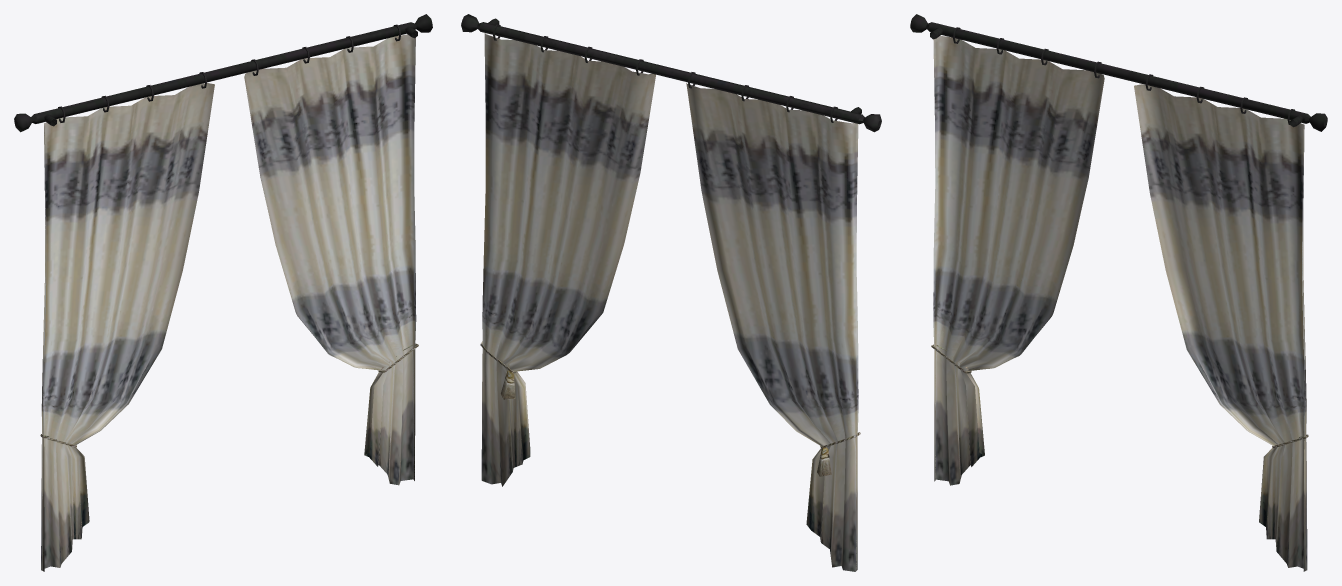
The model's file is furni_0200480.FBX.
3 renders of one model, left to right at view 1: azimuth 30°, elevation 25°; view 2: azimuth 150°, elevation 25°; view 3: azimuth 330°, elevation 25°, orthographic.
Parts seen in each view (by area): view 1: furni_0200480; view 2: furni_0200480; view 3: furni_0200480.
Boxes of the visible parts, bbox=[...] form: furni_0200480: bbox=[14, 14, 432, 571]; furni_0200480: bbox=[461, 14, 881, 571]; furni_0200480: bbox=[910, 14, 1327, 571].
Size of the model in its own units: 185 by 196 by 11.67.
Materials: 1 (1 with a texture image).
